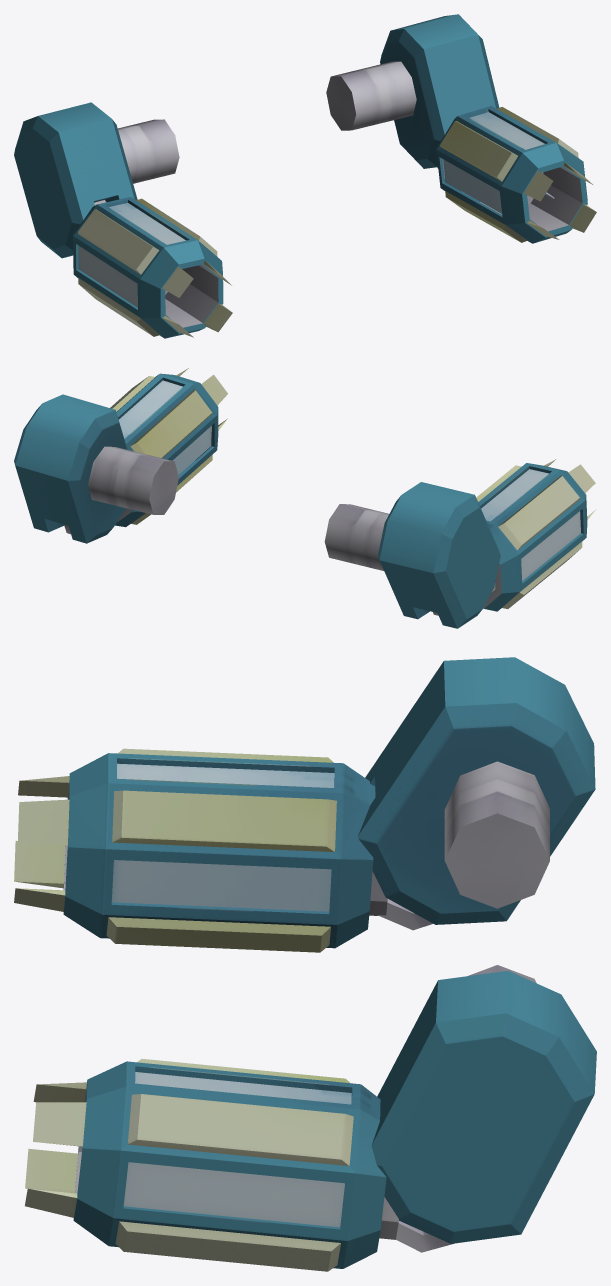
The model's file is player_arm_attack10.obj.
3 renders of one model, top to bottom at view 1: azimuth 30°, elevation 25°; view 2: azimuth 150°, elevation 25°; view 3: azimuth 270°, elevation 25°, orthographic. The views are drawn at different scales.
Parts seen in each view (by area): view 1: Object009, Object010, Object007, Object008, Object005, Object006; view 2: Object007, Object008, Object009, Object010, Object005, Object006; view 3: Object009, Object010, Object008, Object007, Object006.
Part boxes in pixels (<box>): Object009: <box>73,197,232,338</box>; Object010: <box>436,106,596,243</box>; Object007: <box>14,102,137,258</box>; Object008: <box>380,14,499,168</box>; Object005: <box>326,61,416,130</box>; Object006: <box>118,119,179,183</box>; Object007: <box>378,482,500,628</box>; Object008: <box>14,394,127,543</box>; Object009: <box>433,459,596,615</box>; Object010: <box>64,368,227,534</box>; Object005: <box>88,446,178,514</box>; Object006: <box>324,504,388,570</box>; Object009: <box>14,748,432,952</box>; Object010: <box>25,1058,453,1271</box>; Object008: <box>371,970,596,1243</box>; Object007: <box>358,657,595,924</box>; Object006: <box>444,761,549,908</box>.
Size of the model in its own units: 175 by 55.51 by 112.
Materials: 2 (1 with a texture image).
